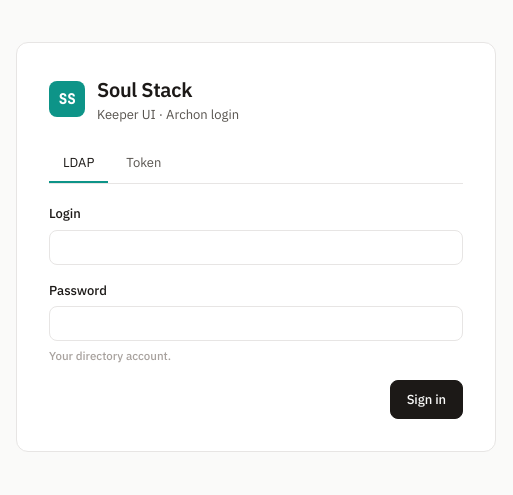
Test case: login form › says so when no directory group gives a role
The width and height of the screenshot is (513, 495).
Type "i.ivanov" into the field with test id "login-ldap-login". click: (256,247)
box: [49,230,463,265]
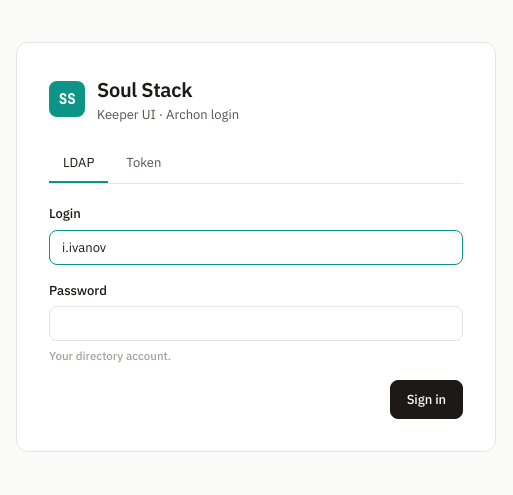
Type "directory pass" into the password field with test id "login-ldap-password". click: (256,324)
box: [49,306,463,341]
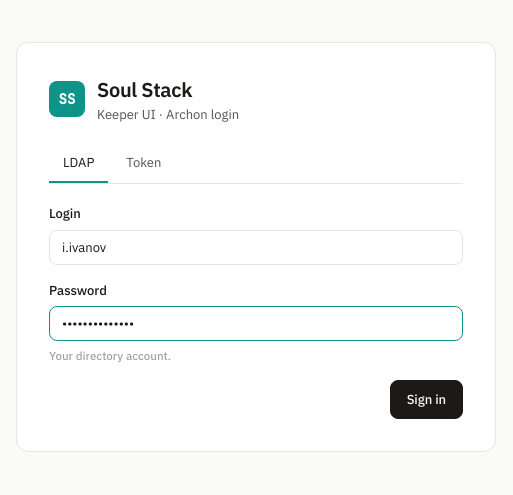
Click the button with test id "login-ldap-submit". click: (426,400)
box: [390,380,463,419]
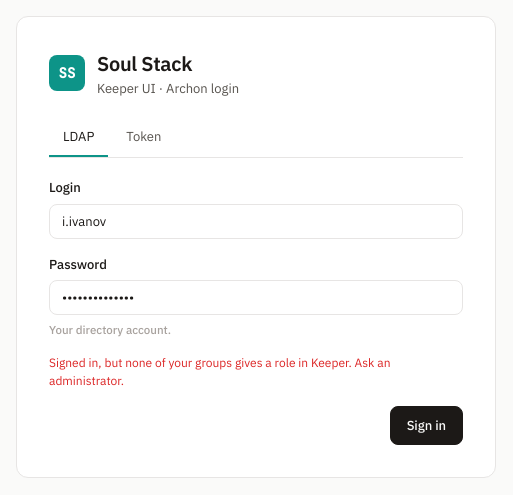
Check: the text with test id "login-error" shows "none of your groups gives a role", box [49,355,390,388]
